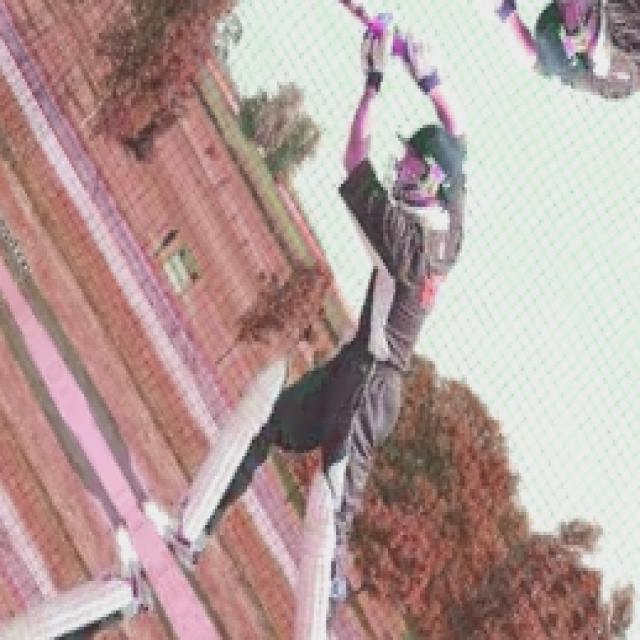bat: (333, 0, 380, 28)
